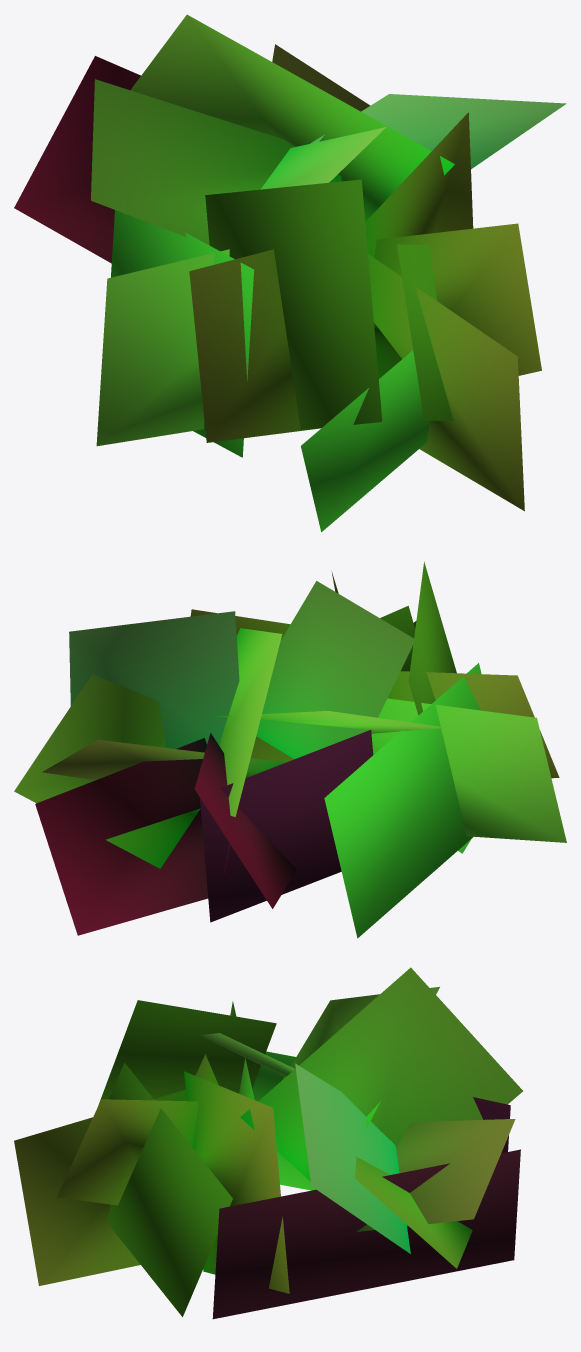
File: bush1_LOD1.fbx
3 renders of one model, top to bottom at view 1: azimuth 30°, elevation 25°; view 2: azimuth 150°, elevation 25°; view 3: azimuth 270°, elevation 25°, orthographic. The views are drawn at different scales.
Visible parts, largest first — view 1: bush1_LOD1; view 2: bush1_LOD1; view 3: bush1_LOD1.
Part boxes in pixels (<box>): bush1_LOD1: <box>14,14,566,531</box>; bush1_LOD1: <box>14,561,566,938</box>; bush1_LOD1: <box>14,967,522,1319</box>.
Bounding box in the file's own units: 303 × 207 × 343.
